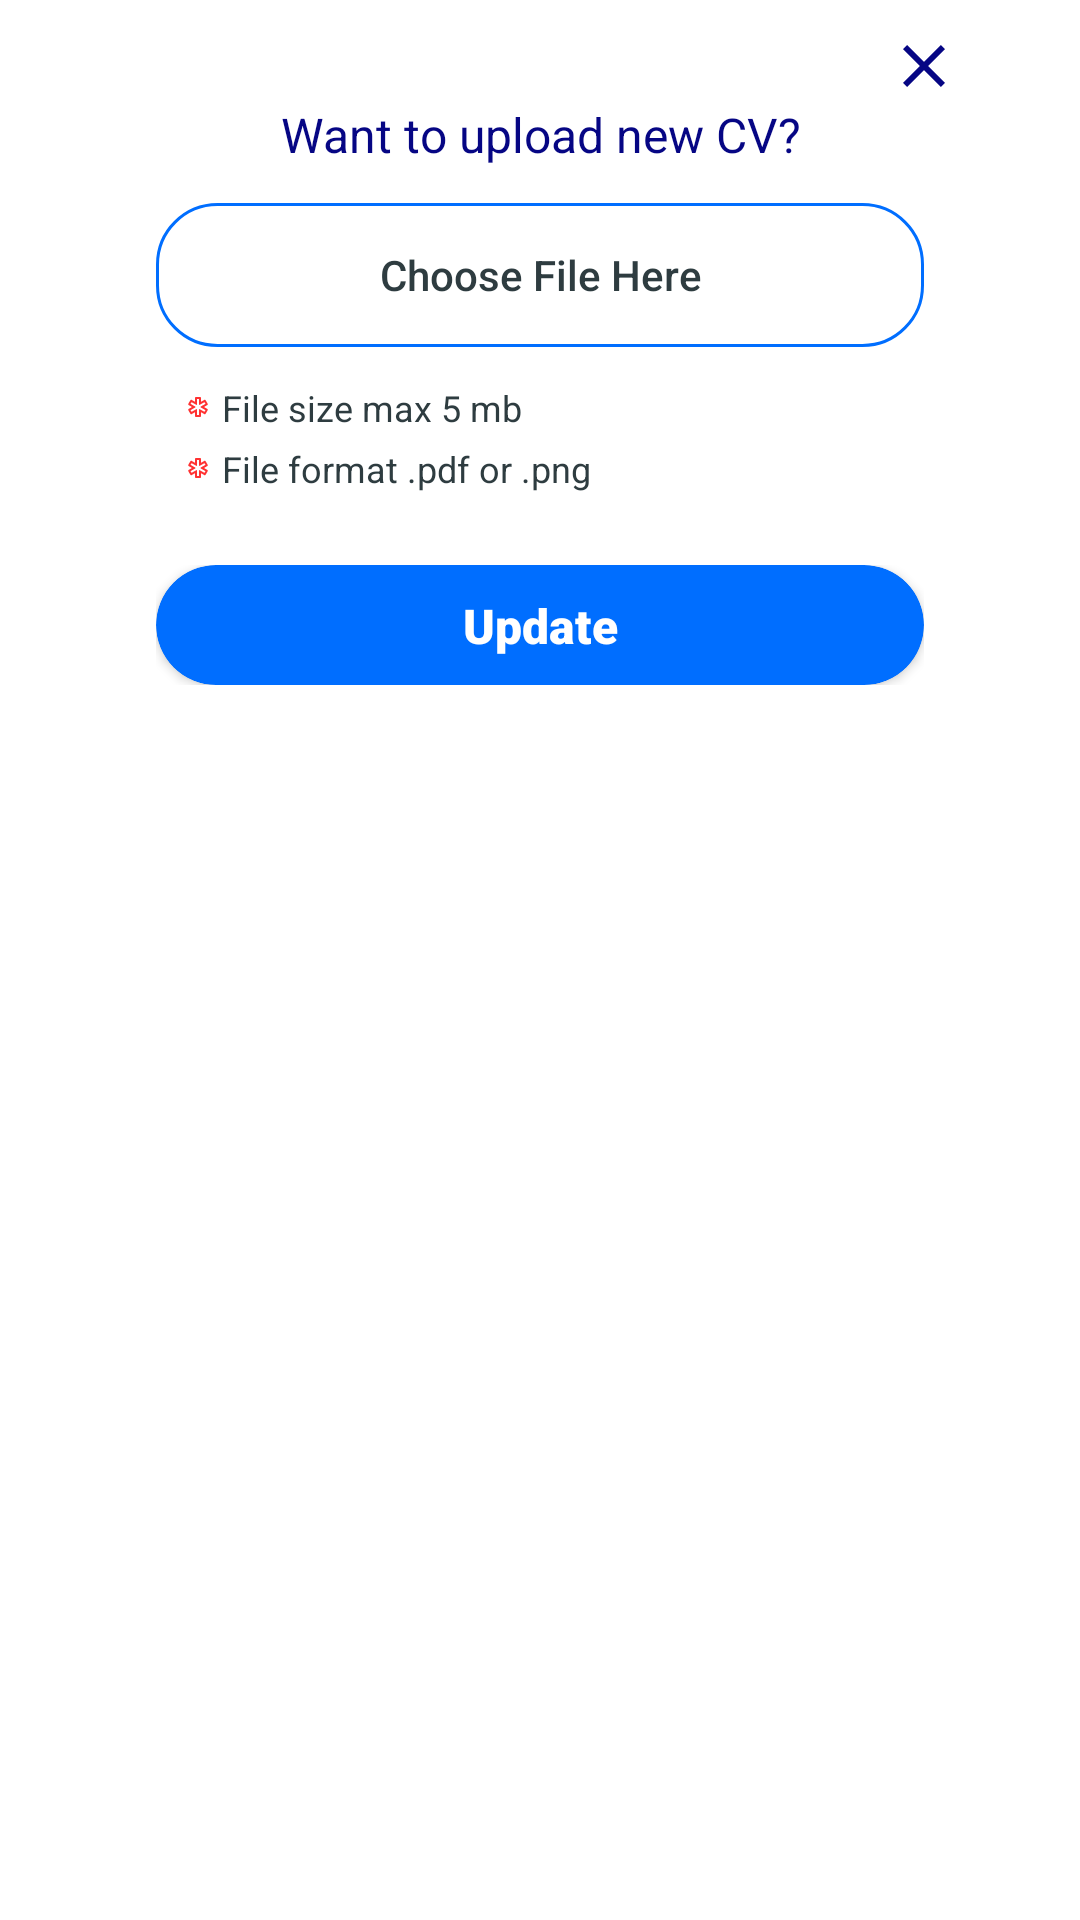

Icon click points for this 1080 x 1920 phone screenshot, format point (x, y):
close: point (924, 66)
